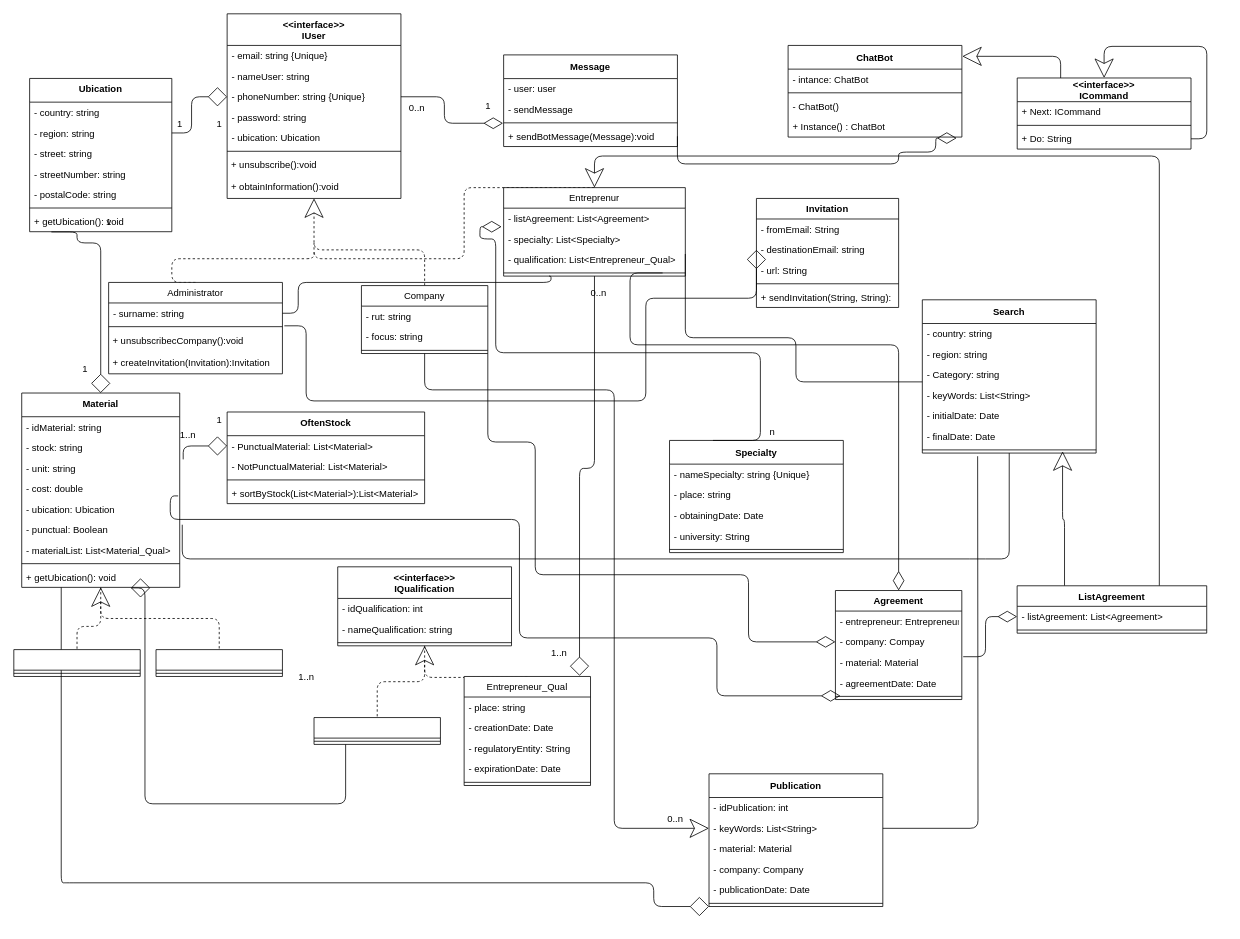
Some shapes in this 1240 by 939 pixel diagram are drawn without their labels. Each missing label, with the centre of its shape:
"Material_Qual" goes at [376,730].
"Recyclable" goes at [76,662].
"Residue" goes at [218,662].
